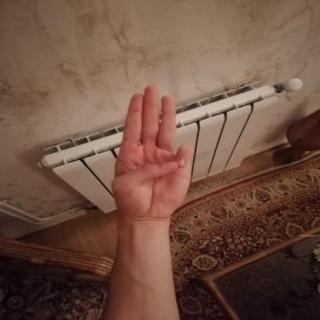THA: (100, 76, 204, 229)
